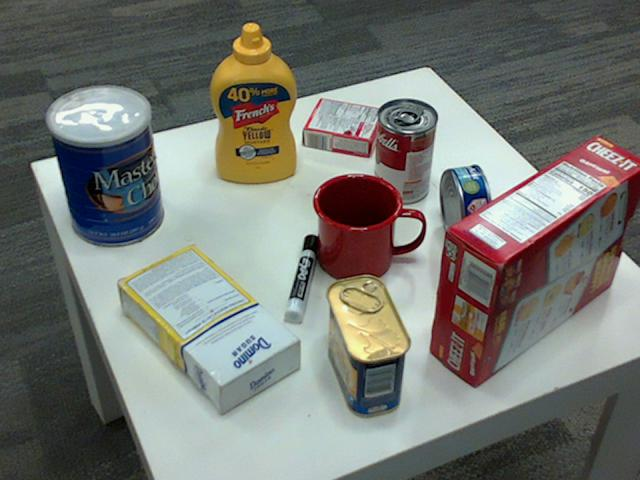cracker_box: (428, 134, 639, 385)
gelatin_box: (304, 97, 385, 155)
large_marker: (282, 235, 319, 327)
master_chef_can: (44, 85, 161, 247)
mug: (311, 170, 422, 279)
mustard_bottle: (209, 23, 296, 182)
potted_meat_can: (324, 275, 411, 416)
sugar_box: (114, 242, 297, 409)
tomato_soup_can: (373, 99, 437, 204)
tuna_fish_can: (439, 164, 491, 244)
